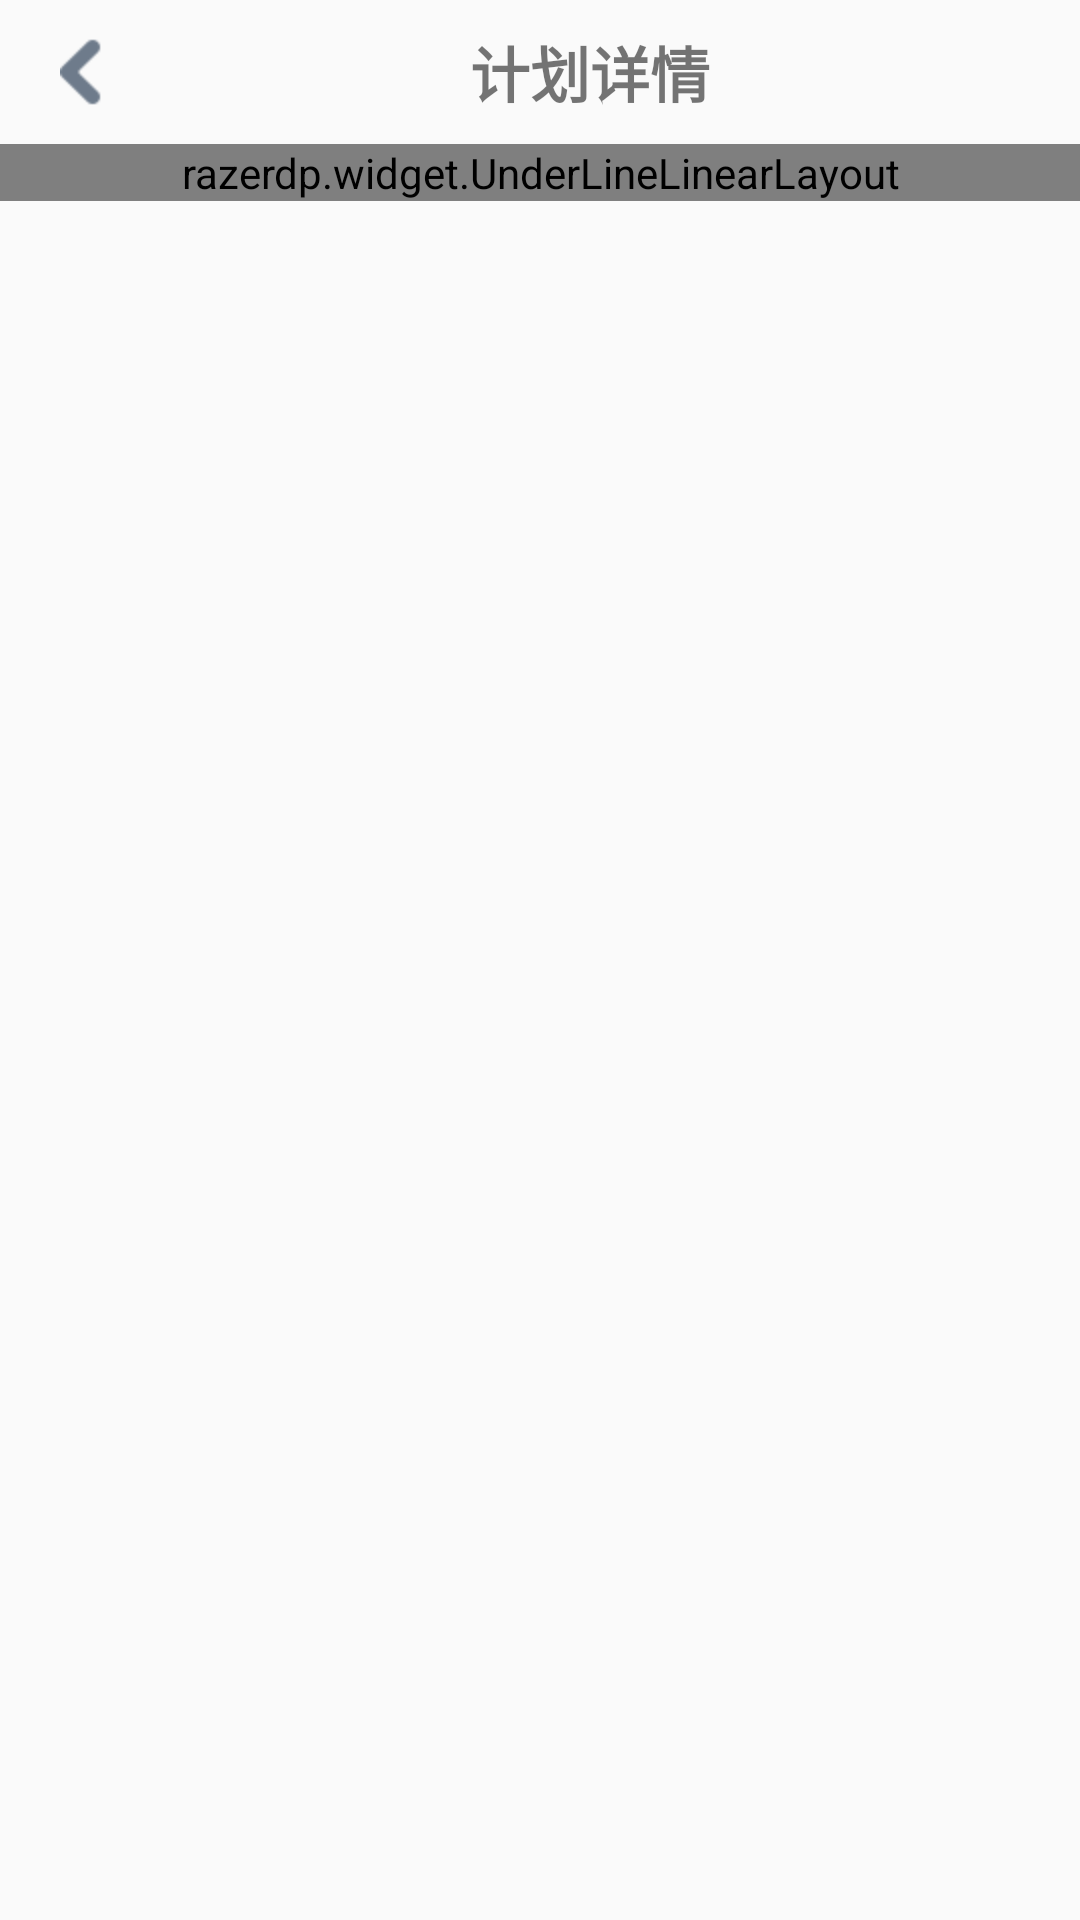

Named icons in this screenshot (1080 x 1920) and their bounding boxes, BBox(x1, y1, x2, y2):
back: BBox(60, 39, 101, 105)
